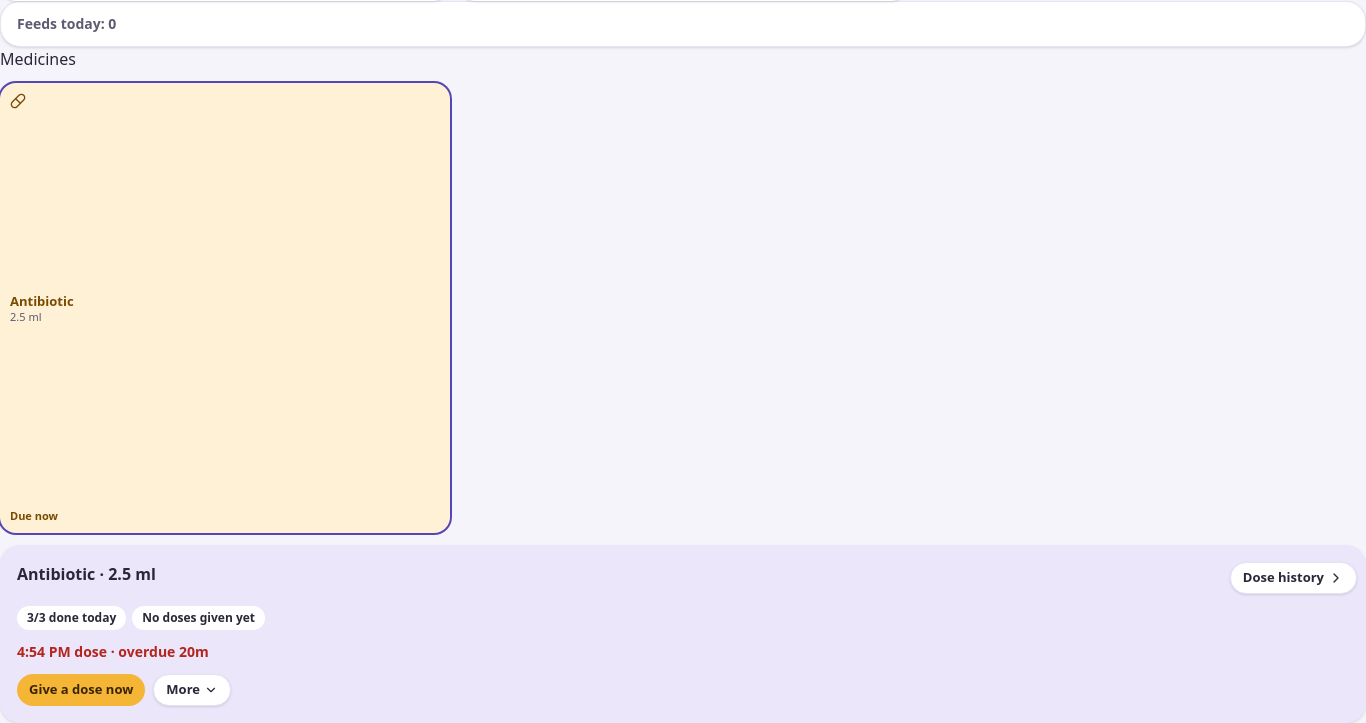
it: an extra every-few-hours dose after the maximum asks first too
(page scrolled)
Click the button "Give a dose now".
click(81, 690)  # box [17,674,145,706]
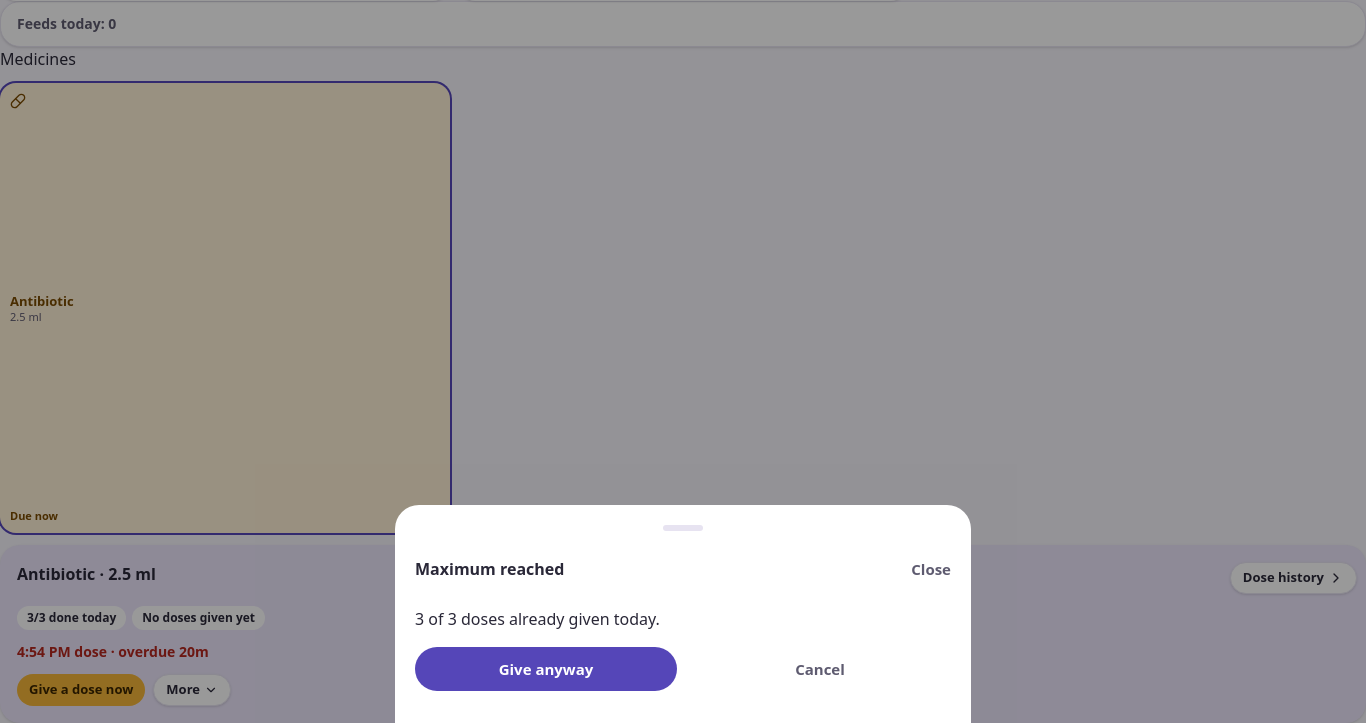
Expected: the dialog "Maximum reached" is shown, [395,505,971,722]
